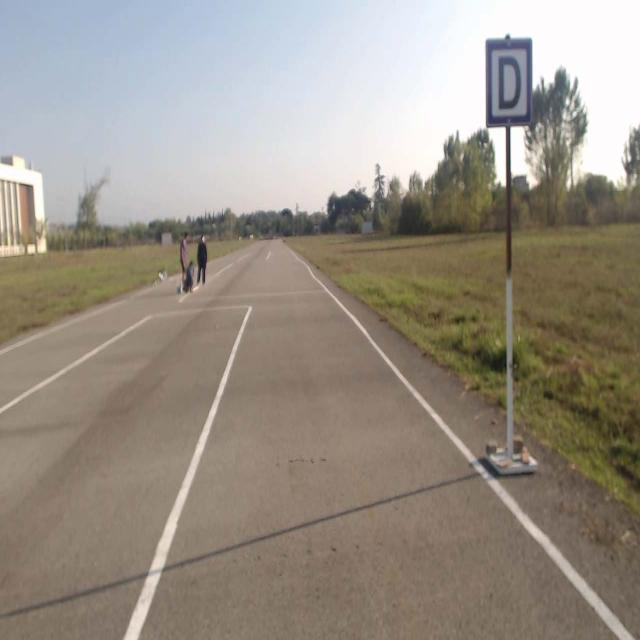durak: (486, 39, 532, 126)
